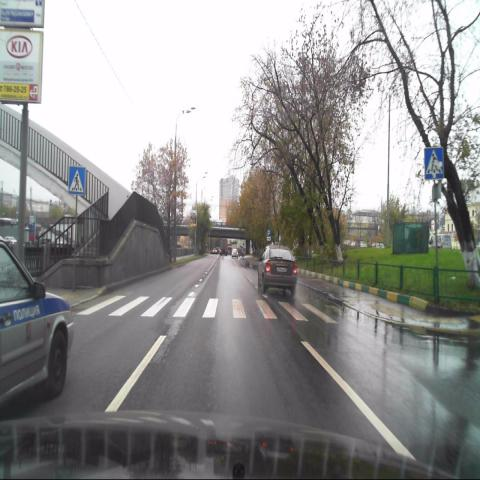5_19_1: (424, 147, 444, 180), (68, 166, 84, 195)
